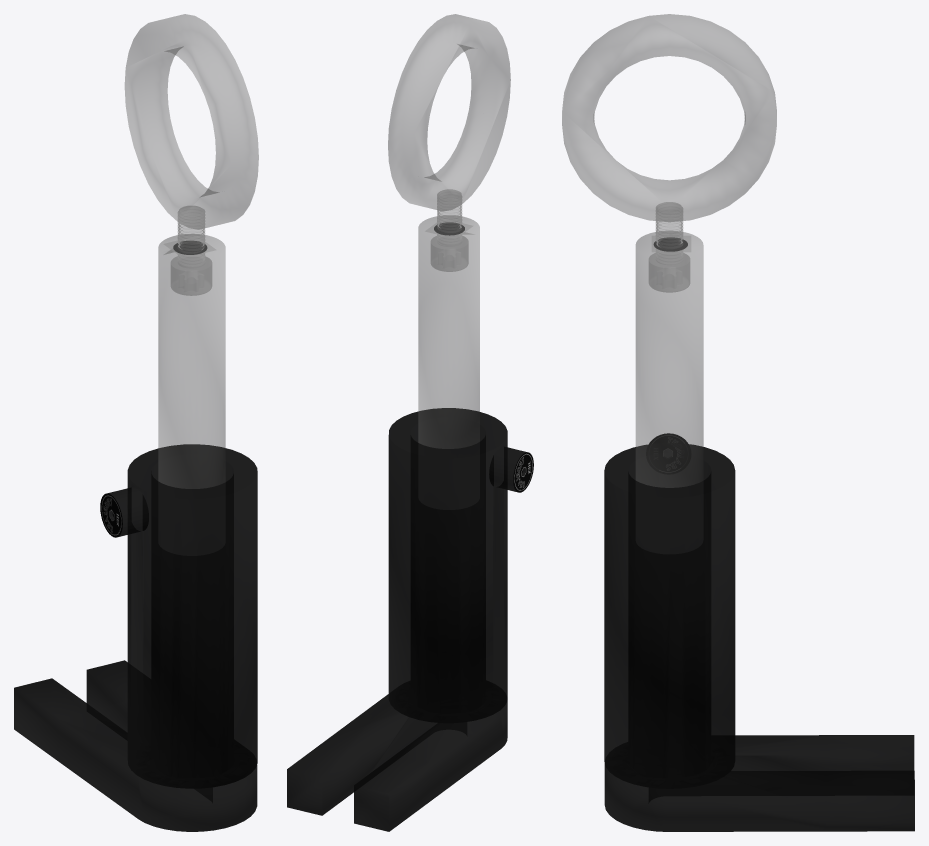
3 views of the same model, side by side, from view 1: azimuth 30°, elevation 25°; view 2: azimuth 150°, elevation 25°; view 3: azimuth 270°, elevation 25° (orthographic). The views are drawn at different scales.
Parts seen in each view (by area): view 1: ﺔﻧﺍﻮﻄﺳﺃ.001; view 2: ﺔﻧﺍﻮﻄﺳﺃ.001; view 3: ﺔﻧﺍﻮﻄﺳﺃ.001.
Boxes of the visible parts, left/top/right/bottom form: ﺔﻧﺍﻮﻄﺳﺃ.001: left=14, top=14, right=258, bottom=831; ﺔﻧﺍﻮﻄﺳﺃ.001: left=287, top=14, right=533, bottom=831; ﺔﻧﺍﻮﻄﺳﺃ.001: left=562, top=14, right=914, bottom=831.
Bounding box in the file's own units: 419 × 2263 × 924.
Materials: 3 (1 with a texture image).
